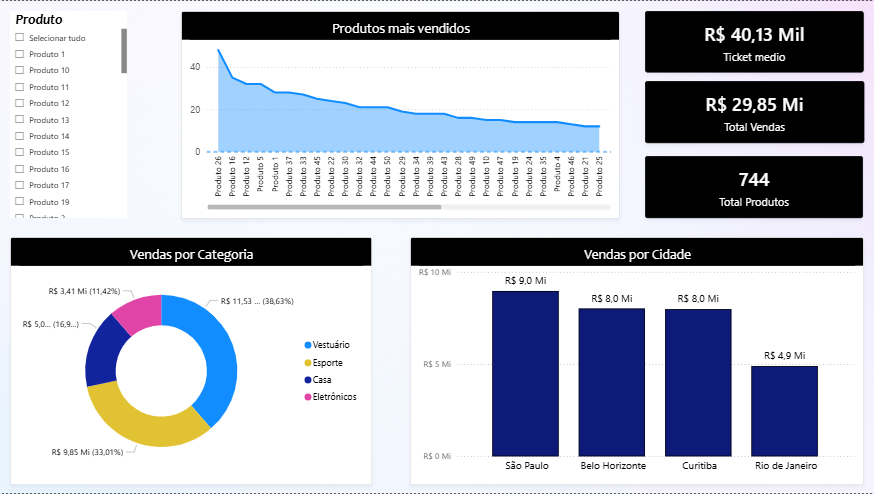

The page's visual inventory and layout, read from the dashboard file:
{"tool":"powerbi","page":{"name":"Visão geral","canvas":[1280,720],"ordinal":0},"visuals":[{"type":"card","fields":{"Values":["BaseVendas.Ticket medio"]},"box":[944,15.1,320,90],"z":0},{"type":"card","fields":{"Values":["BaseVendas.Total Produtos"]},"box":[944,226.8,319.2,90.7],"z":1000},{"type":"card","fields":{"Values":["BaseVendas.Total Vendas"]},"box":[944,117.6,320.8,90.7],"z":2000},{"type":"columnChart","title":"Vendas por Cidade","fields":{"Category":["BaseVendas.Cidade"],"Y":["BaseVendas.Total Vendas"]},"box":[600,345.4,664.4,362.9],"z":3000},{"type":"donutChart","title":"Vendas por Categoria","fields":{"Category":["BaseVendas.Categoria"],"Y":["BaseVendas.Total Vendas"]},"box":[14.6,345.4,529.8,362.9],"z":4000},{"type":"areaChart","title":"Produtos mais vendidos","fields":{"Category":["BaseVendas.Nome_produto"],"Y":["Sum(BaseVendas.Quantidade)"]},"box":[265.4,15.1,641.7,304],"z":5000},{"type":"slicer","fields":{"Values":["BaseVendas.Nome_produto"]},"box":[14.6,14.6,171.2,302.9],"z":6000}]}

Visuals, with their boxes in screenshot pixels (x1, y1, x2, y2), scaled from the page's 1280x720 canvas onto the 874x494 screenshot:
card - BaseVendas.Ticket medio: (645, 10, 863, 72)
card - BaseVendas.Total Produtos: (645, 156, 863, 218)
card - BaseVendas.Total Vendas: (645, 81, 864, 143)
"Vendas por Cidade" columnChart: (410, 237, 863, 486)
"Vendas por Categoria" donutChart: (10, 237, 372, 486)
"Produtos mais vendidos" areaChart: (181, 10, 619, 219)
slicer - BaseVendas.Nome_produto: (10, 10, 127, 218)
